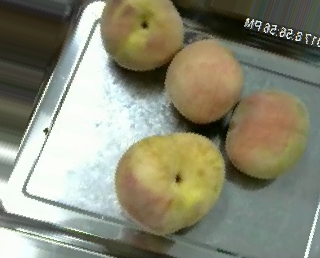Peach: (117, 131, 224, 234), (224, 89, 309, 181), (165, 39, 244, 123), (99, 1, 184, 69)
